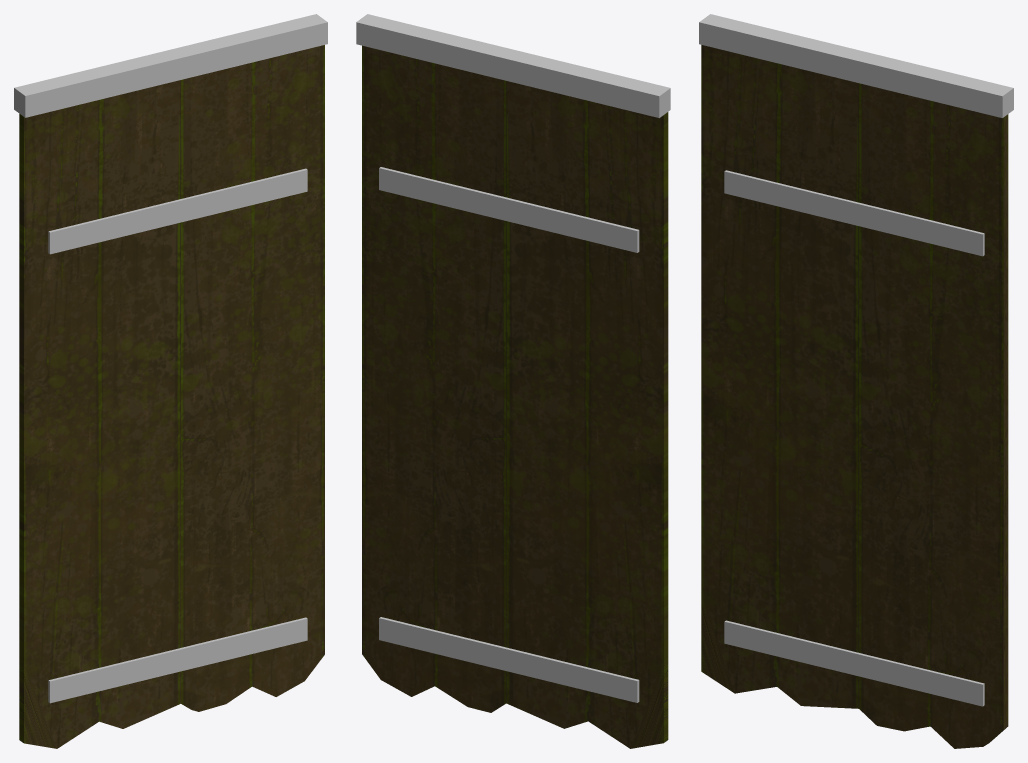
The model's file is GalpaoPorta_30mai.fbx.
3 renders of one model, left to right at view 1: azimuth 30°, elevation 25°; view 2: azimuth 150°, elevation 25°; view 3: azimuth 330°, elevation 25°, orthographic.
Parts seen in each view (by area): view 1: pCube956; view 2: pCube956; view 3: pCube956.
Part boxes in pixels (left/top/right/bottom): pCube956: left=14, top=14, right=327, bottom=748; pCube956: left=356, top=14, right=670, bottom=748; pCube956: left=699, top=14, right=1013, bottom=748.
Bounding box in the file's own units: 165 × 346 × 10.64.
